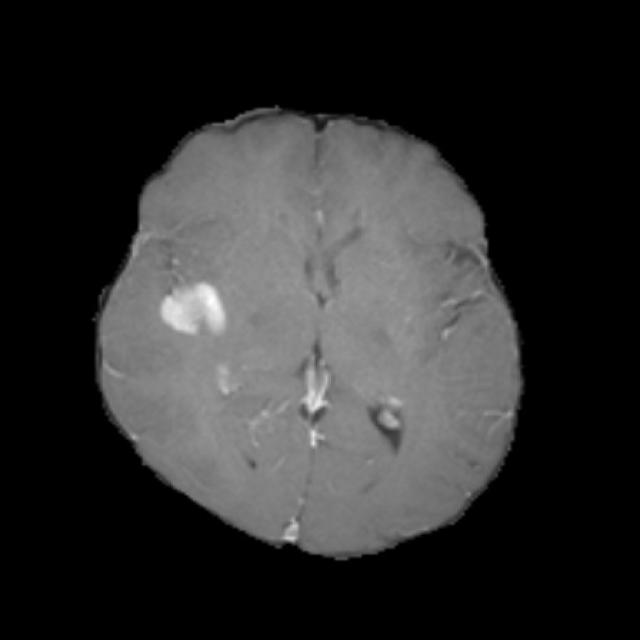positive: (159, 282, 224, 336)
